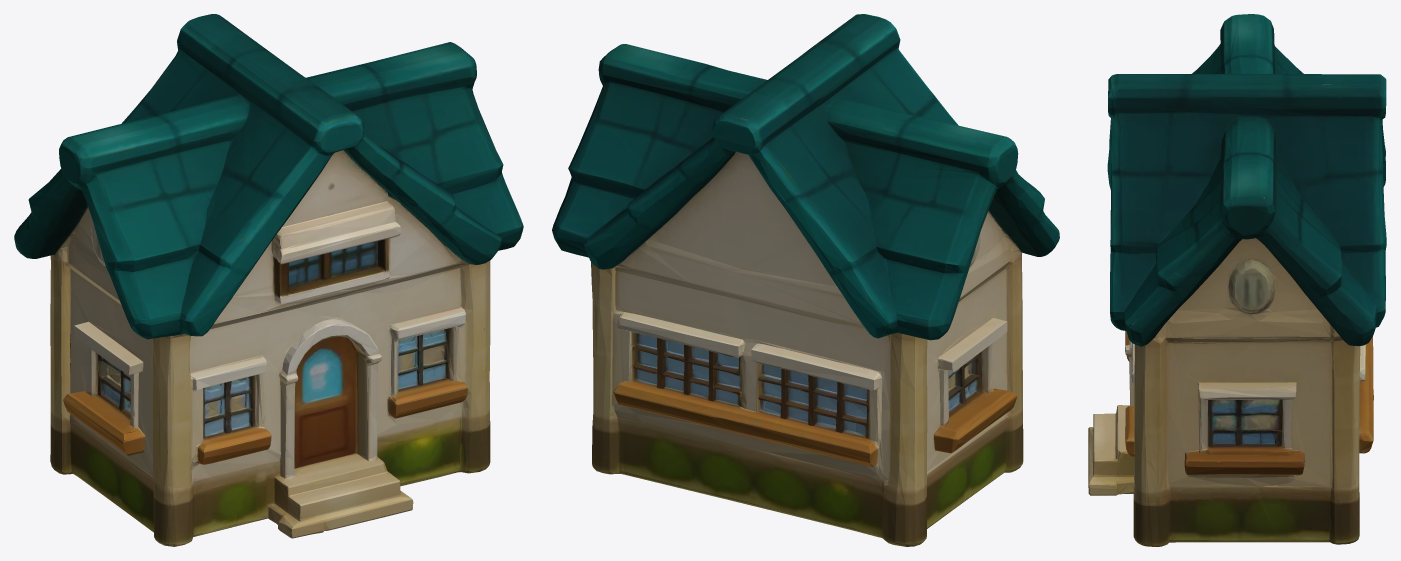
File: teal_roof_building.glb
3 renders of one model, left to right at view 1: azimuth 30°, elevation 25°; view 2: azimuth 150°, elevation 25°; view 3: azimuth 270°, elevation 25°, orthographic. The views are drawn at different scales.
Visible parts, largest first — view 1: geometry_0; view 2: geometry_0; view 3: geometry_0.
Part boxes in pixels (x1,y1,x2,y2): geometry_0: (14,14,523,546); geometry_0: (552,14,1059,546); geometry_0: (1088,14,1386,546).
Size of the model in its own units: 0.999 by 0.9629 by 0.6671.
Materials: 1 (1 with a texture image).
